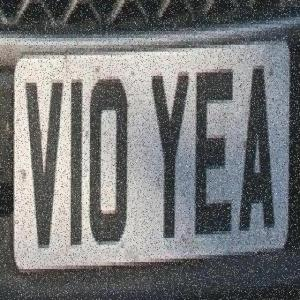Plate: (5, 12, 295, 282)
